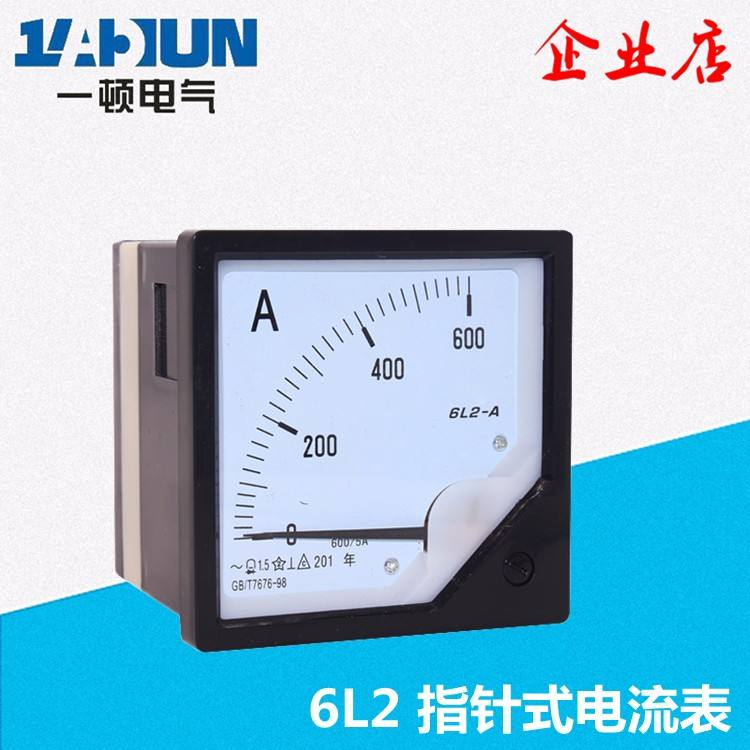pointer: (214, 248, 546, 623)
